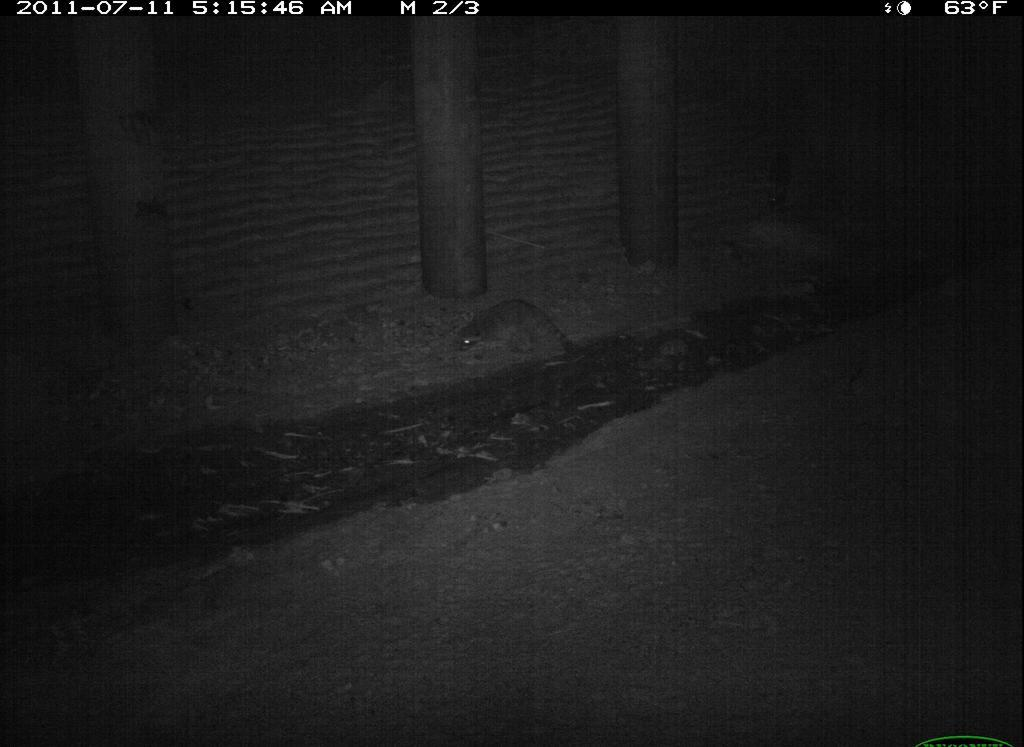raccoon: (906, 571, 1024, 741)
